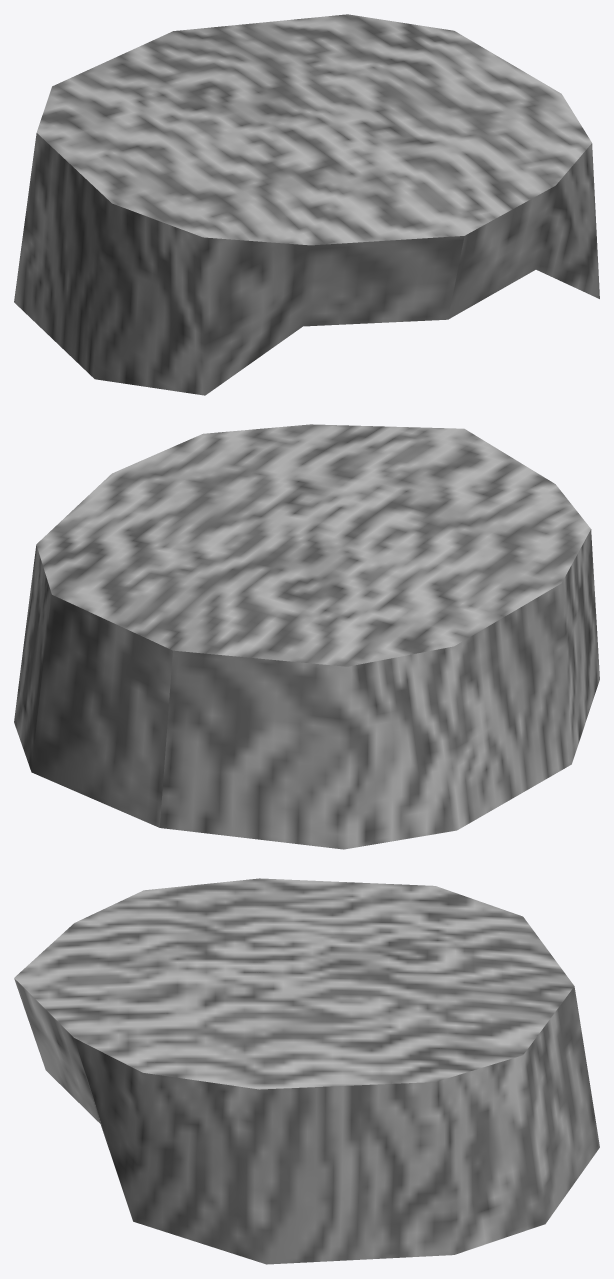
File: Wig_Bob_Hair_FlatTop.fbx
3 views of the same model, one above another, from view 1: azimuth 30°, elevation 25°; view 2: azimuth 150°, elevation 25°; view 3: azimuth 270°, elevation 25° (orthographic). The views are drawn at different scales.
Parts seen in each view (by area): view 1: BoxOfJars003; view 2: BoxOfJars003; view 3: BoxOfJars003.
Part boxes in pixels (left/top/right/bottom): BoxOfJars003: left=14, top=14, right=599, bottom=395; BoxOfJars003: left=14, top=424, right=599, bottom=849; BoxOfJars003: left=14, top=878, right=599, bottom=1264.
Bounding box in the file's own units: 10.56 × 4 × 11.67.
